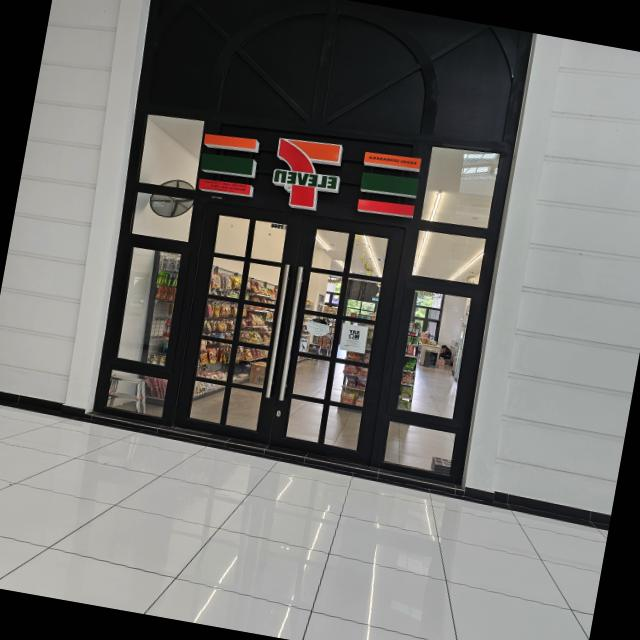door: (168, 193, 408, 464)
footpath: (0, 415, 608, 640)
